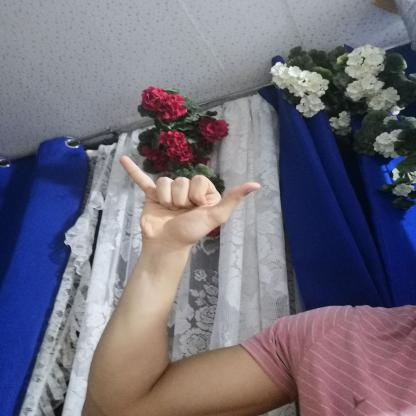YA: (106, 146, 269, 256)
